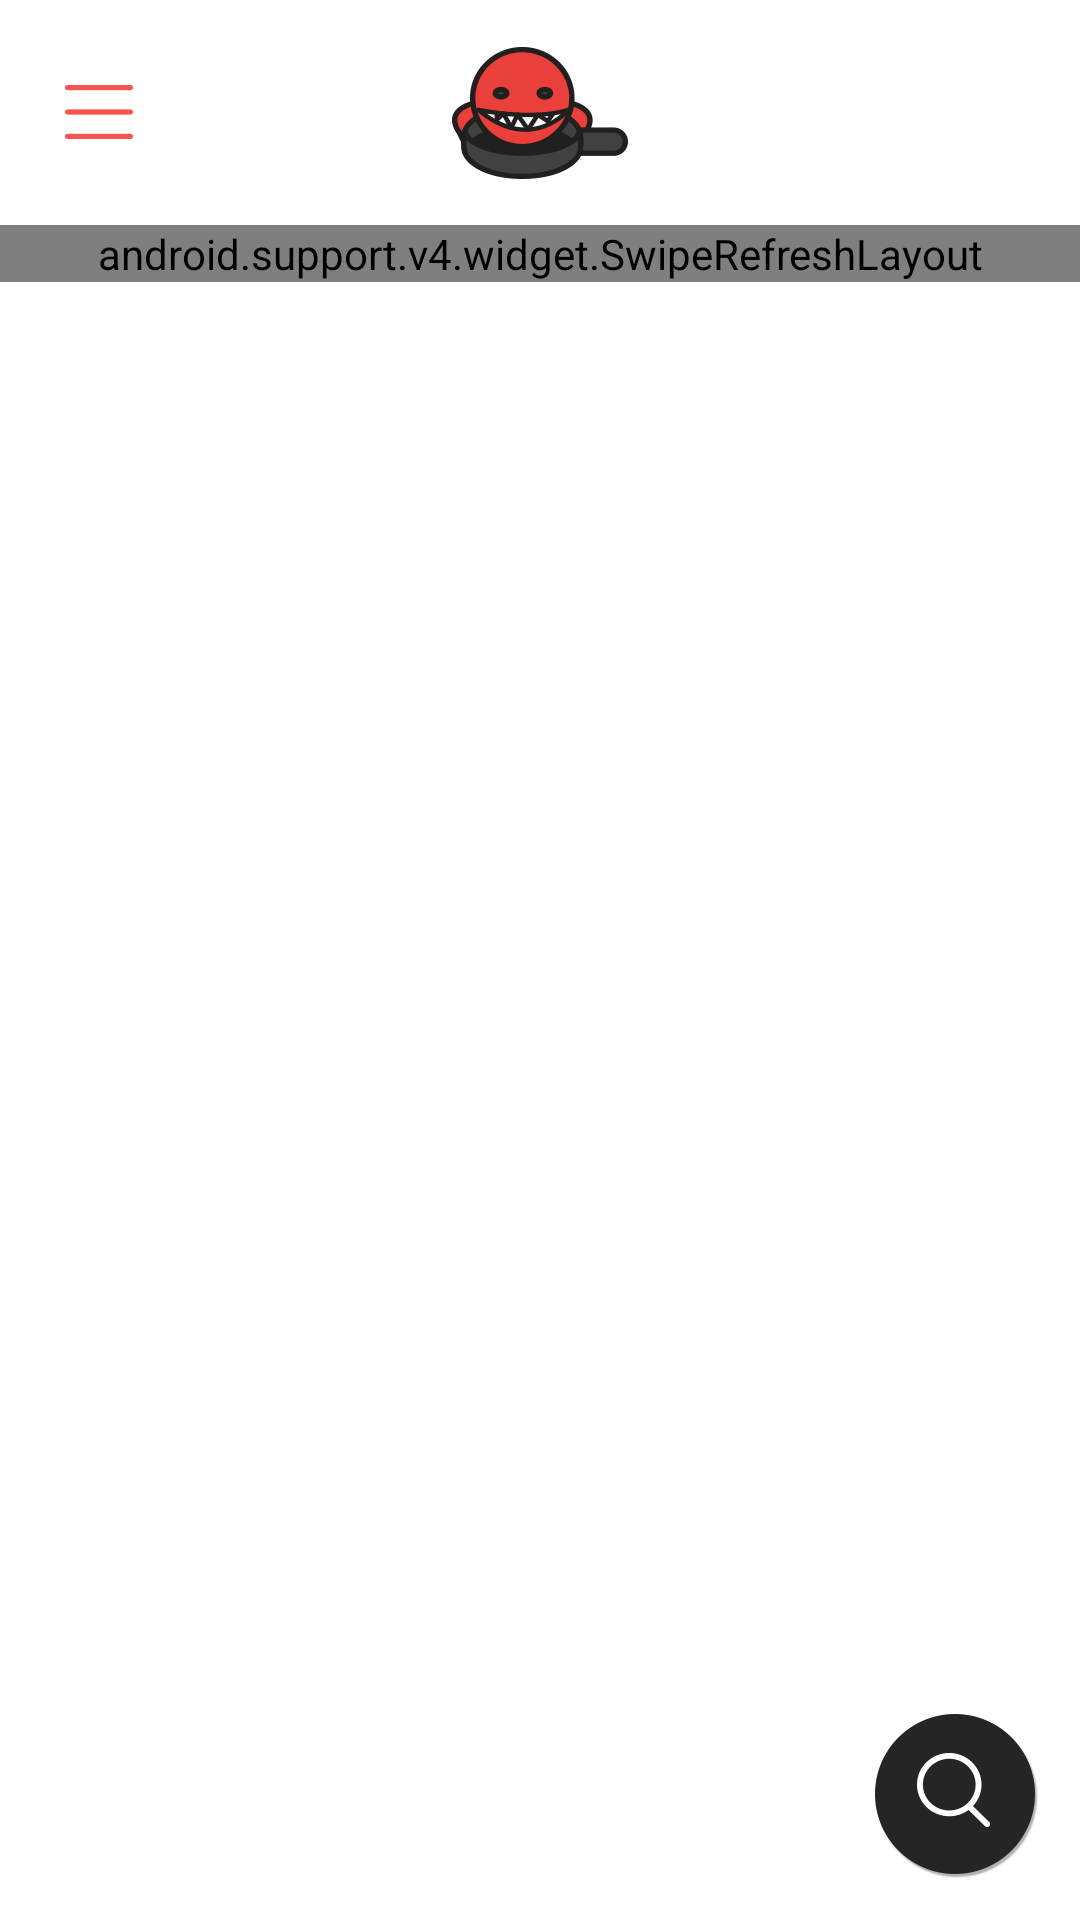

Icons on this 1080 x 1920 Android screen, each with the point to tap as (x=x, y=y):
float search: (x=956, y=1795)
